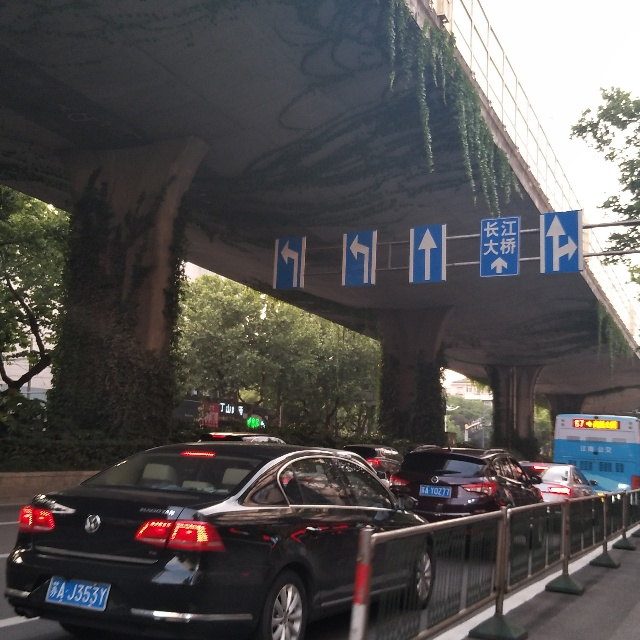left: (345, 227, 374, 283), (278, 243, 305, 292)
straight: (413, 229, 449, 280)
